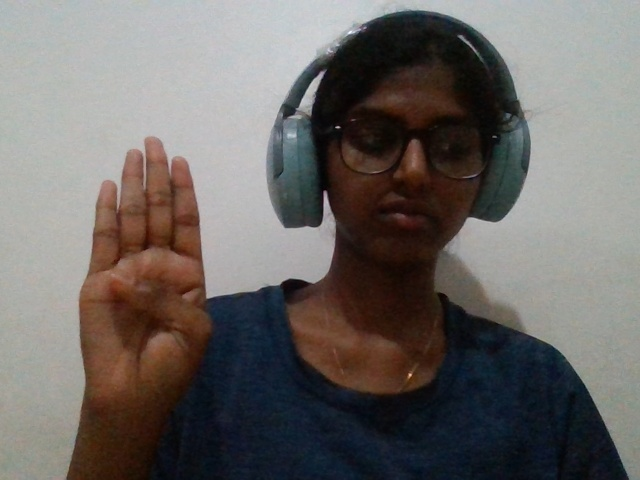B: (48, 123, 225, 458)
